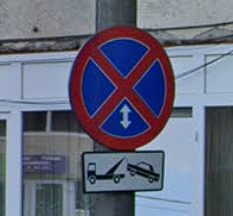oprirea_interzisa: (66, 26, 176, 151)
